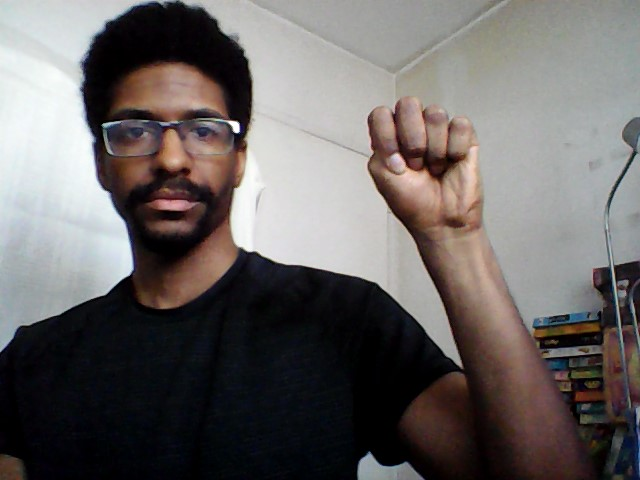m: (363, 92, 488, 228)
